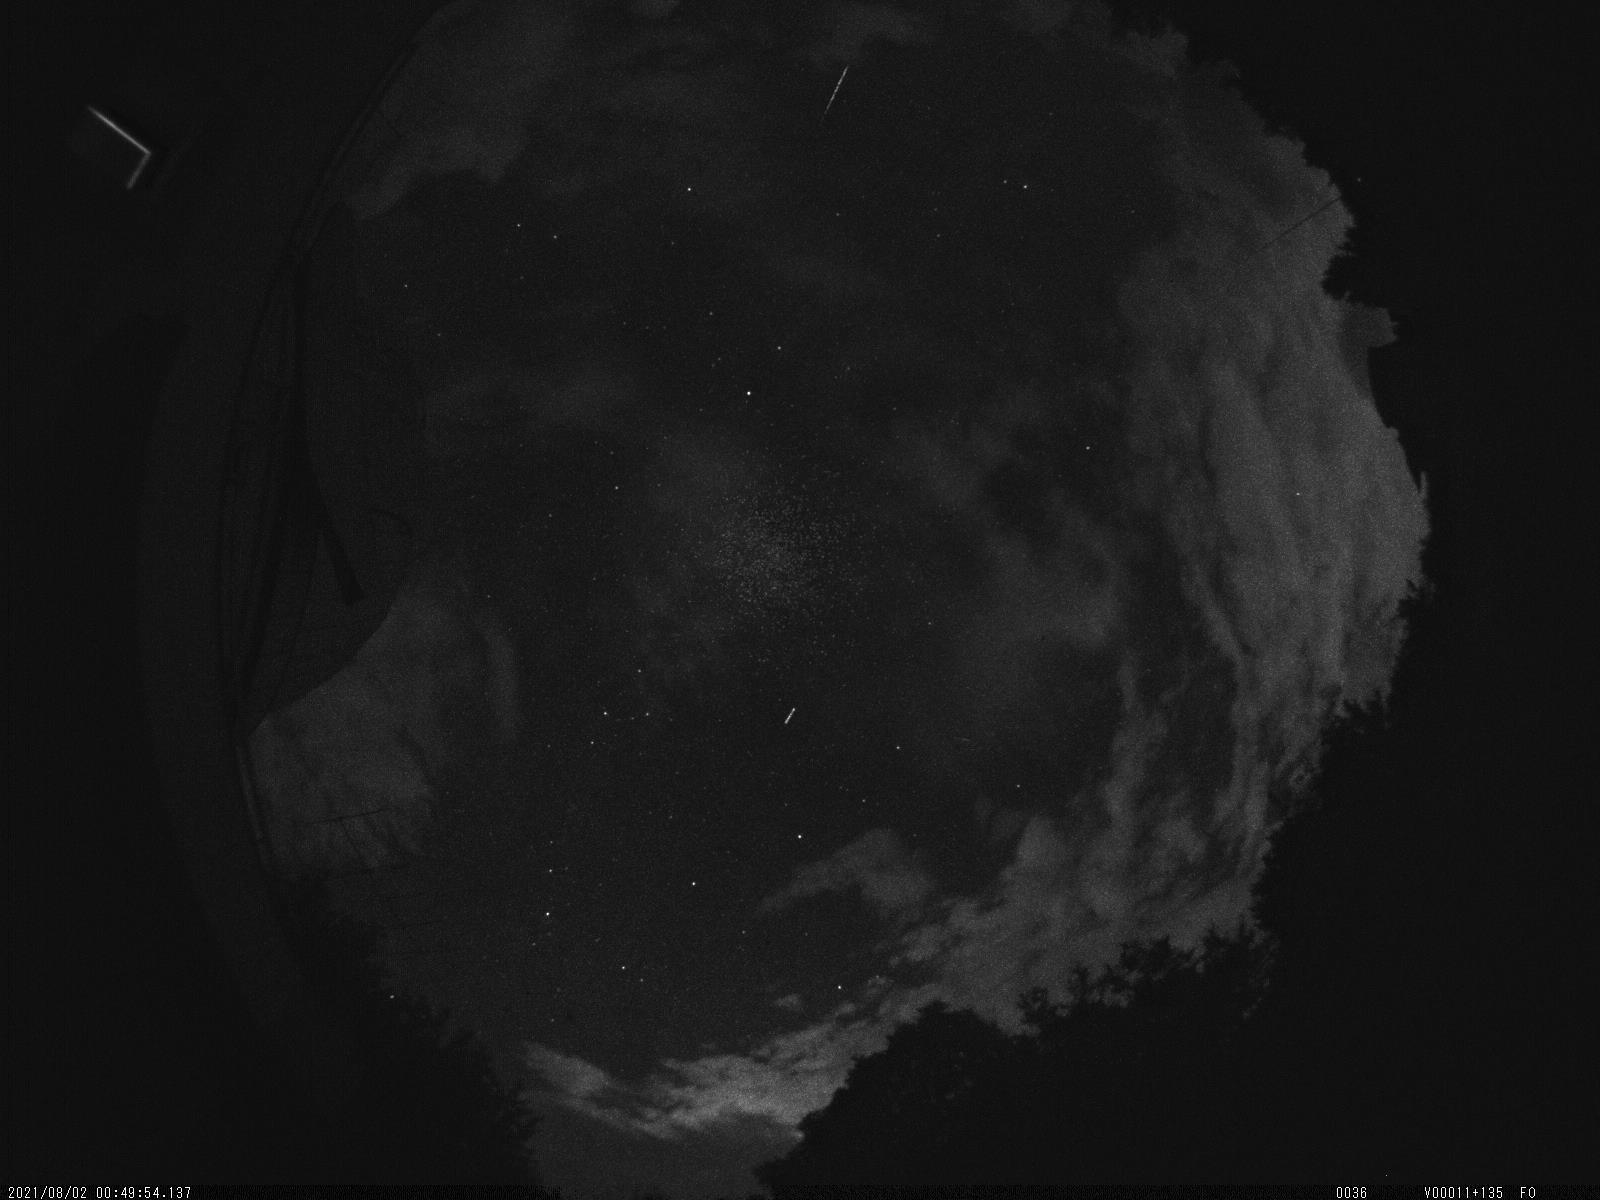Meteor: (816, 59, 859, 129)
